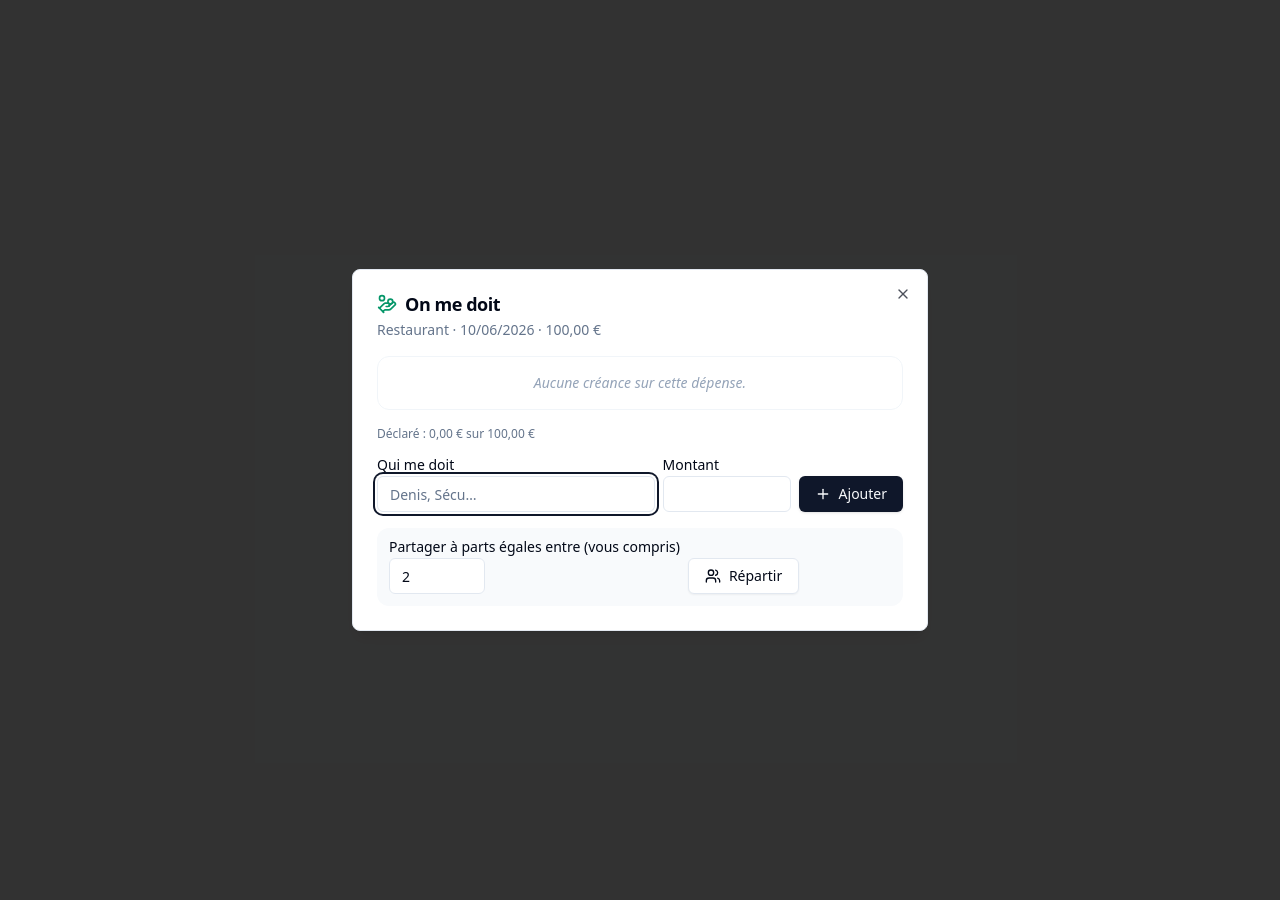
Test: ReimbursementDialog : dépense › exige un débiteur et un montant positif
Expected: the text "Aucune créance sur cette dépense." is shown, [534,373,746,392]
In the field labelled "Qui me doit": (516, 494) [377,476,655,512], type "Denis"
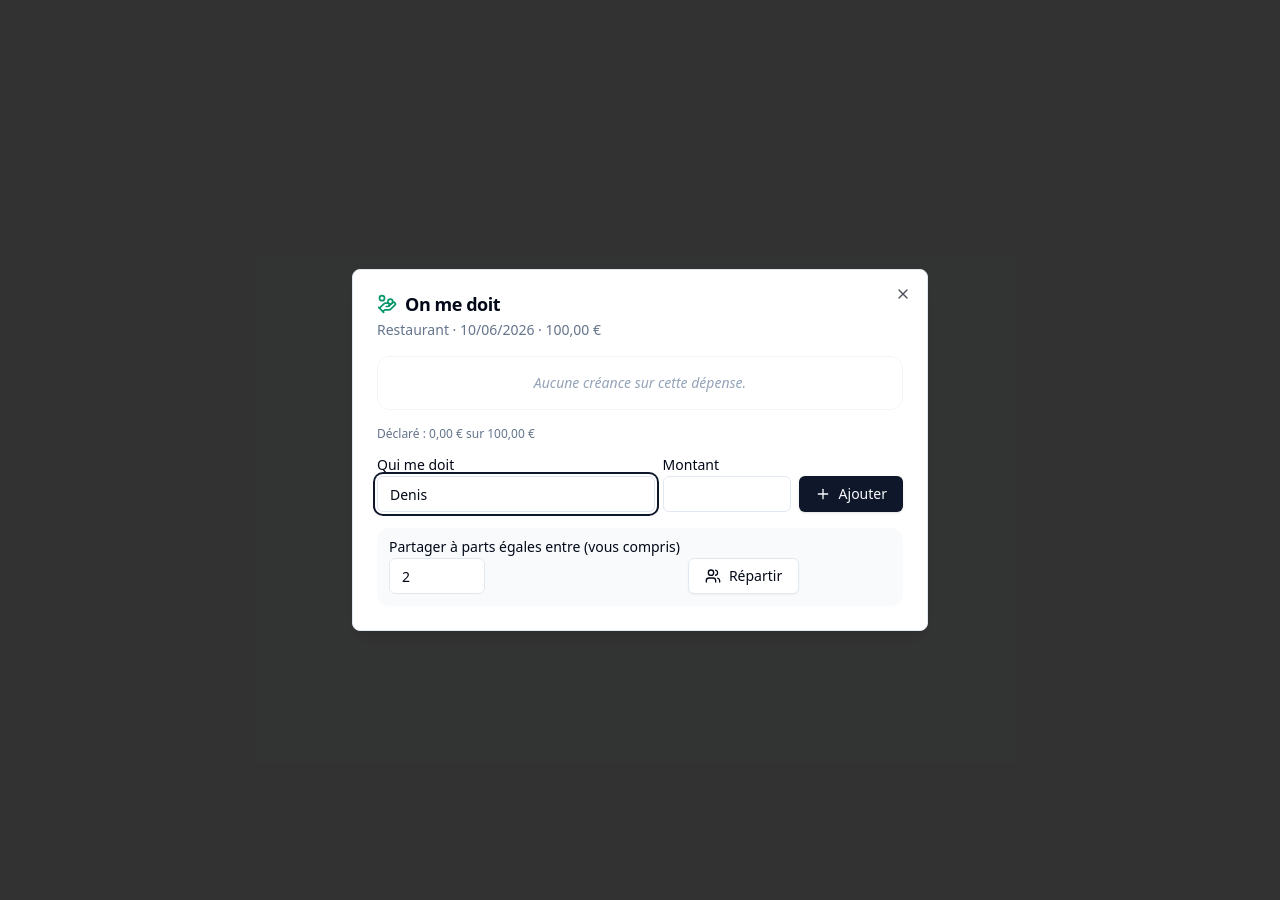
In the field labelled "Montant": (727, 494) [663,476,791,512], type "-20"
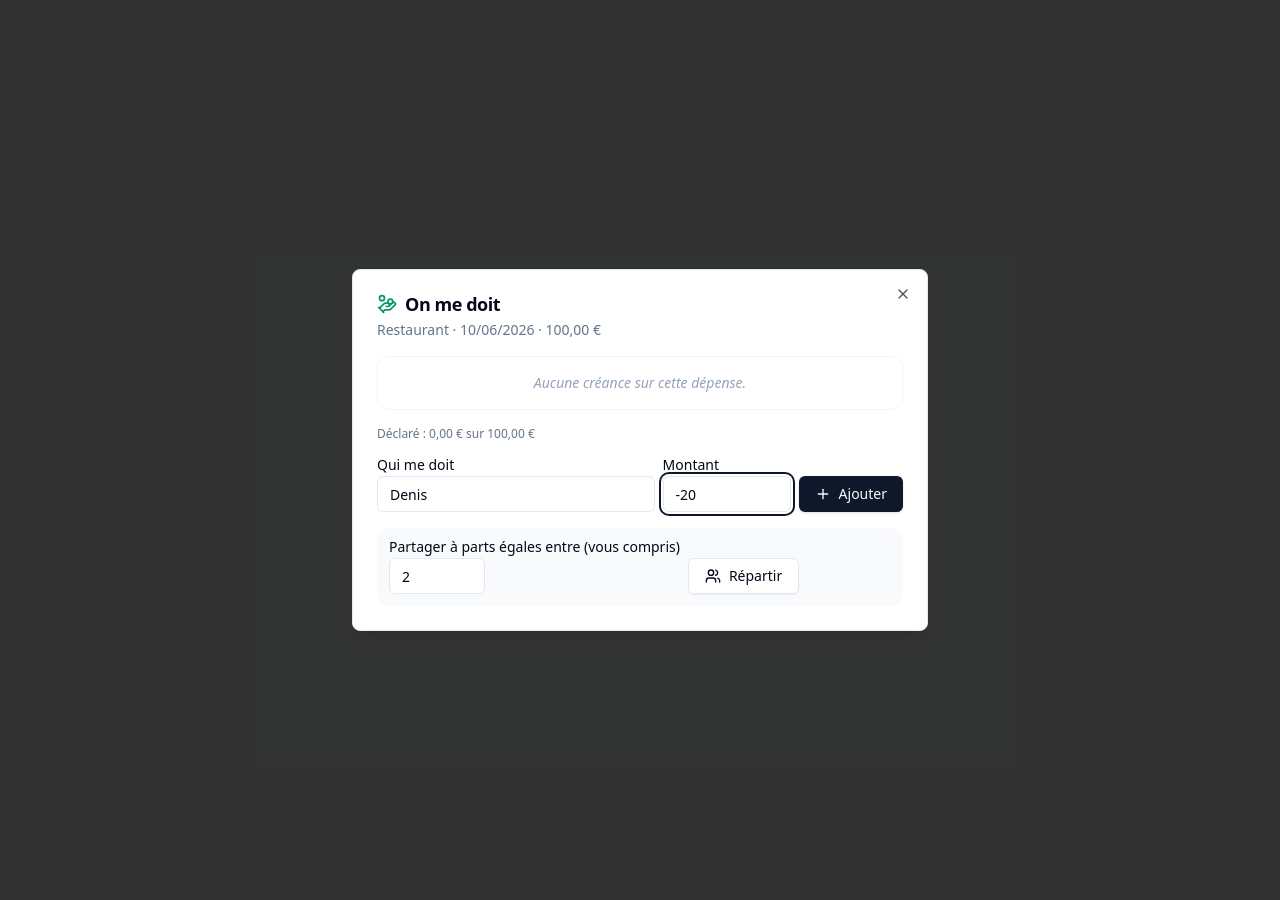
Click the button "Ajouter": (851, 494) [799,476,903,512]
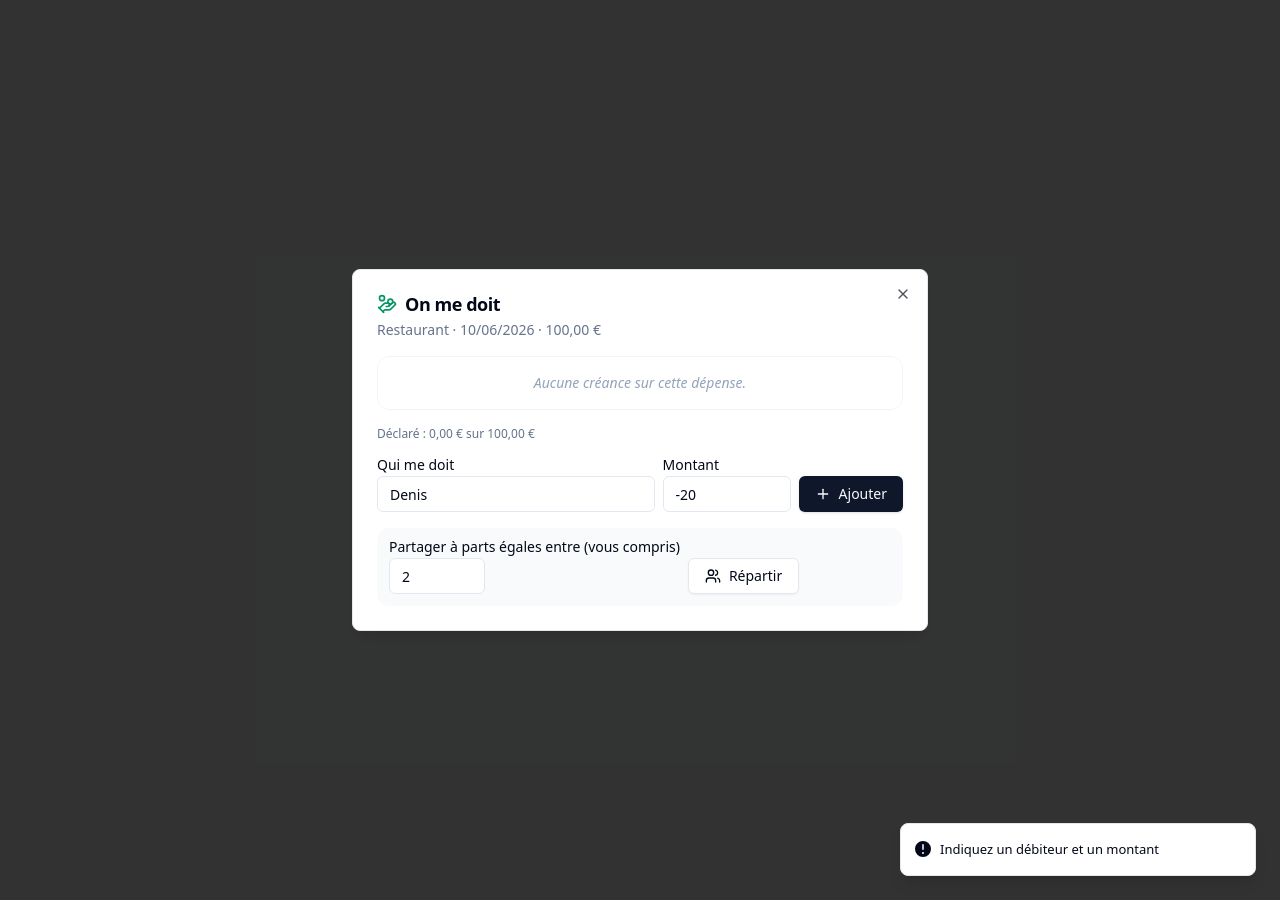
Expected: the text "Indiquez un débiteur et un montant" is shown, [940,840,1159,859]
